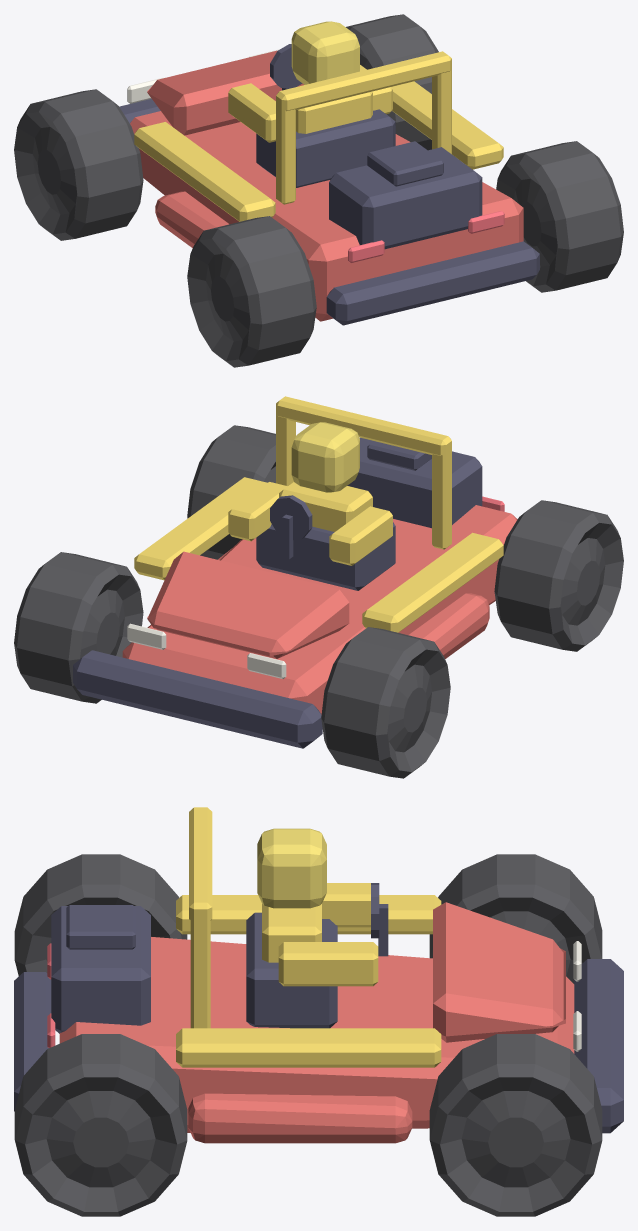
File: Kart_Buggy.fbx
3 views of the same model, one above another, from view 1: azimuth 30°, elevation 25°; view 2: azimuth 150°, elevation 25°; view 3: azimuth 270°, elevation 25° (orthographic). The views are drawn at different scales.
Visible parts, largest first — view 1: Trim, Body, Accent, WheelRL, WheelFL, WheelRR, Driver, WheelFR, Head, WeaponMount, Taillights, Headlights; view 2: Body, Trim, Accent, WheelFL, WheelRL, WheelFR, Driver, WheelRR, Head, Headlights, WeaponMount; view 3: Body, WheelRR, WheelFR, Trim, Accent, WheelFL, WheelRL, Driver, Head, WeaponMount, Headlights.
Part boxes in pixels (x1,y1,x2,y2): Trim: [119, 44, 539, 325]; Body: [130, 50, 523, 321]; Accent: [134, 51, 503, 221]; WheelRL: [187, 216, 316, 367]; WheelFL: [14, 89, 143, 240]; WheelRR: [496, 141, 623, 292]; Driver: [228, 65, 392, 142]; WheelFR: [346, 14, 438, 150]; Head: [291, 21, 359, 84]; WeaponMount: [367, 141, 443, 186]; Taillights: [348, 211, 504, 262]; Headlights: [127, 49, 279, 103]; Body: [122, 505, 517, 714]; Trim: [73, 437, 482, 748]; Accent: [134, 396, 503, 632]; WheelFL: [321, 627, 450, 778]; WheelRL: [494, 500, 623, 651]; WheelFR: [14, 552, 143, 703]; Driver: [228, 482, 392, 565]; WheelRR: [187, 425, 275, 559]; Head: [291, 422, 359, 492]; Headlights: [127, 623, 286, 678]; WeaponMount: [367, 441, 431, 470]; Body: [59, 902, 574, 1143]; WheelRR: [14, 1034, 187, 1216]; WheelFR: [429, 1034, 602, 1216]; Trim: [14, 883, 623, 1133]; Accent: [176, 807, 441, 1067]; WheelFL: [429, 854, 602, 983]; WheelRL: [14, 854, 187, 975]; Driver: [262, 883, 378, 986]; Head: [257, 828, 326, 908]; WeaponMount: [66, 905, 135, 949]; Headlights: [573, 941, 581, 1051].
Size of the model in its own units: 311 by 183 by 367.
